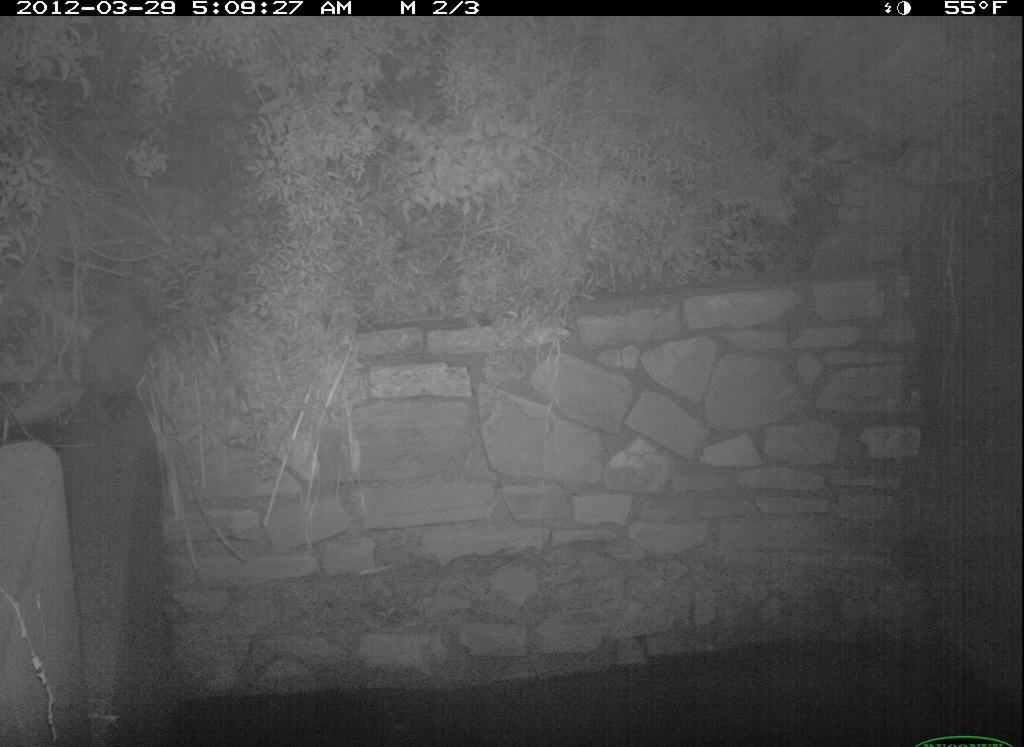opossum: (70, 285, 181, 427)
